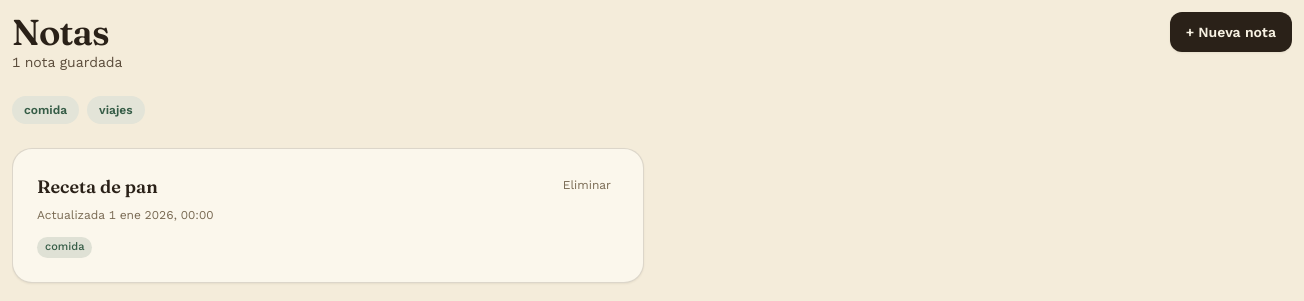
Test: NotasScreen › muestra las etiquetas de cada nota y permite filtrar la lista al pulsar una
This screenshot has width=1304, height=301.
Expected: the heading "Receta de pan" is shown, [37,173,158,201]
Expected: the number of buttons "comida" is 2, [12,96,79,124]; [37,237,92,258]
Click the button "viajes" at (116, 110), box [87,96,145,124]
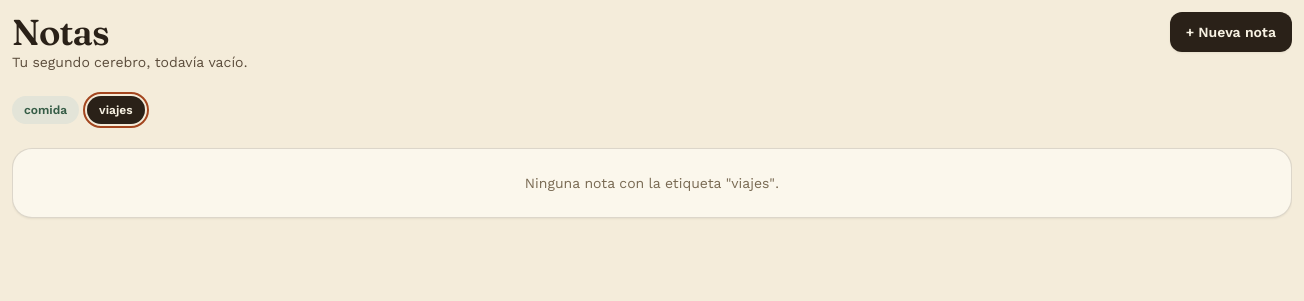
Result: the text "Ninguna nota con la etiqueta \"viajes\"." is shown at [525,175,779,191]
Result: the button "Receta de pan" is gone
